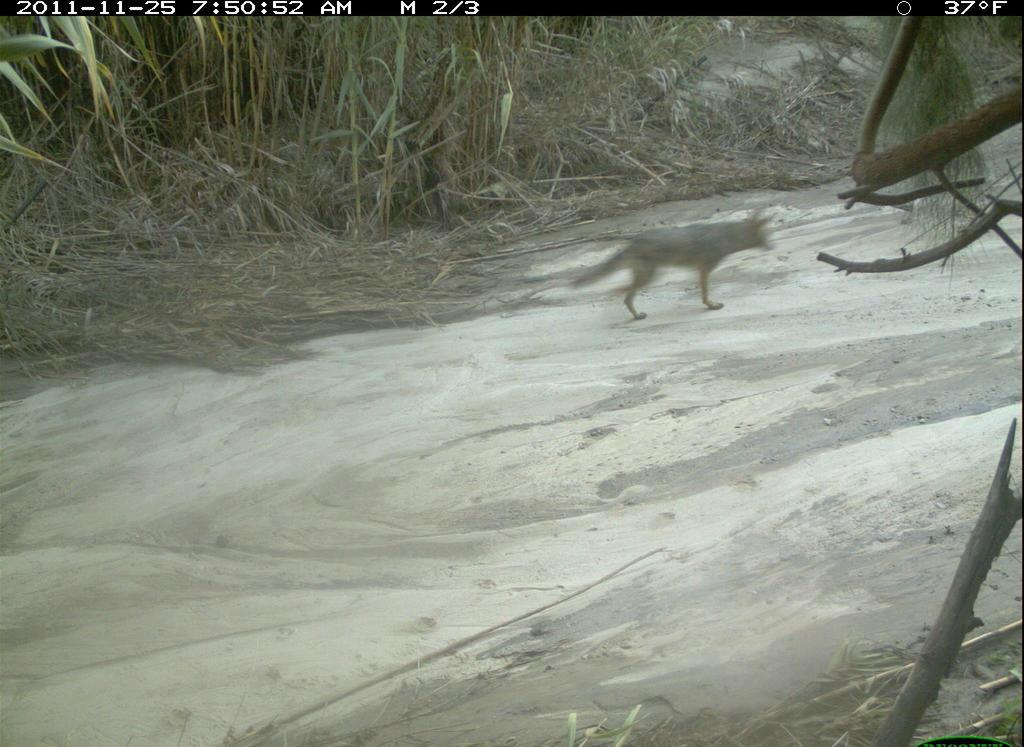coyote: (561, 200, 790, 340)
